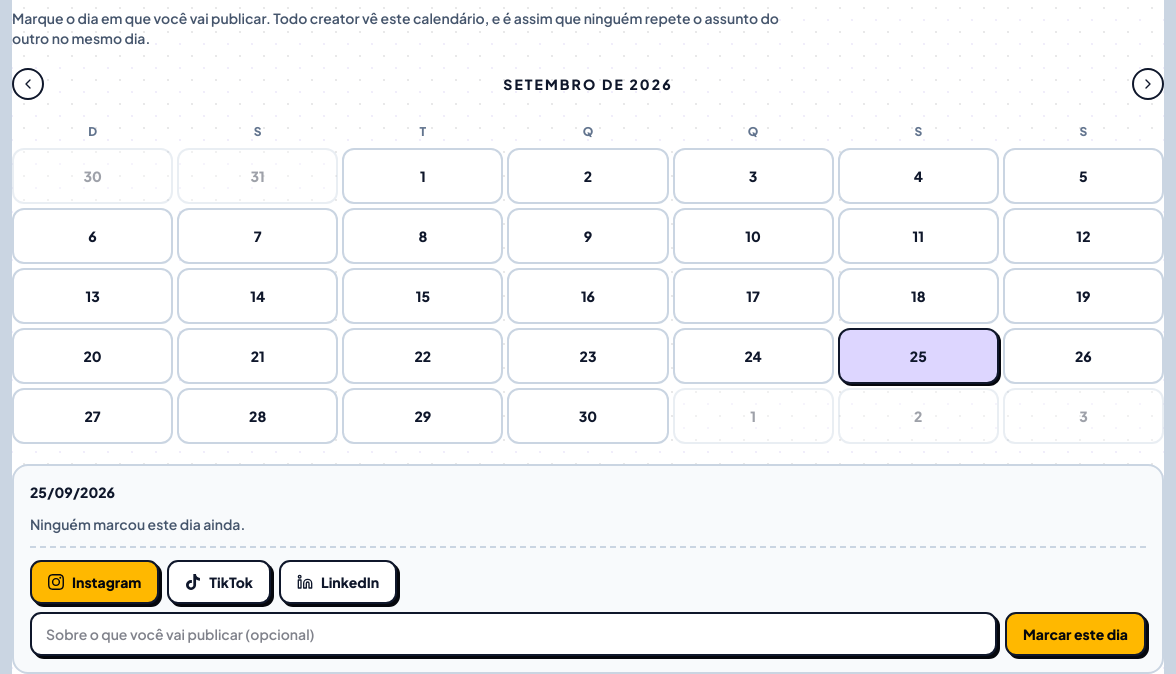
Test: CreatorCalendario: marcar e desmarcar › 409 do servidor: a mensagem DELE aparece no campo
The width and height of the screenshot is (1176, 674).
(page scrolled)
Expected: the text "Ninguém marcou este dia ainda." is shown, [30,515,245,533]
Click the button with test id "creator-marcar-dia" at (1076,634), box [1005,612,1146,656]
(page scrolled)
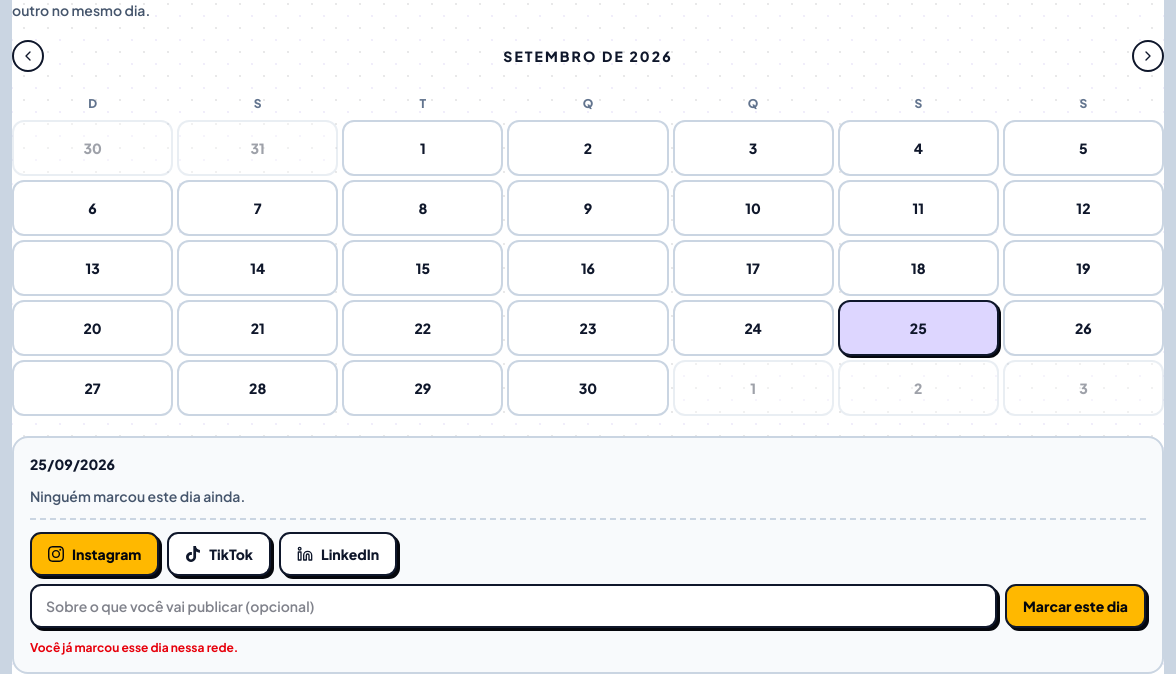
Now the text with test id "creator-calendario-erro-campo" reads "Você já marcou esse dia nessa rede.", box [30,640,238,655]
